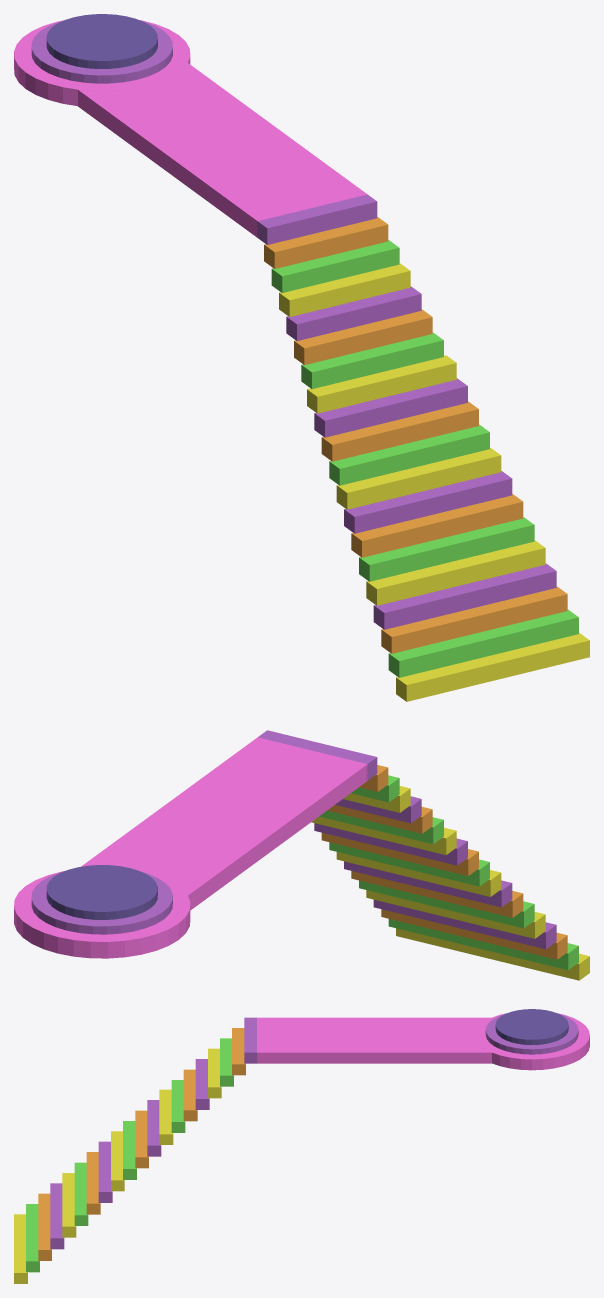
File: COUNT_MASTER_merdiven.fbx
3 views of the same model, one above another, from view 1: azimuth 30°, elevation 25°; view 2: azimuth 150°, elevation 25°; view 3: azimuth 270°, elevation 25° (orthographic). The views are drawn at different scales.
Visible parts, largest first — view 1: Cube.031, Circle.002, Cube.012, Cube.011, Cube.013, Cube.014, Cube.015, Cube.016, Cube.017, Cube.018, Cube.019, Cube.020 (+12 smaller); view 2: Cube.031, Circle, Circle.002, Circle.001, Cube.012, Cube.011, Cube.013, Cube.014, Cube.015, Cube.016, Cube.017, Cube.018 (+12 smaller); view 3: Cube.031, Circle, Circle.002, Circle.001, Cube.011, Cube.014, Cube.013, Cube.015, Cube.012, Cube.016, Cube.017, Cube.018 (+12 smaller).
Boxes of the visible parts, x1=… form: Cube.031: x1=78, y1=63, x2=367, y2=237; Circle.002: x1=46, y1=14, x2=157, y2=68; Cube.012: x1=396, y1=632, x2=589, y2=701; Cube.011: x1=388, y1=609, x2=578, y2=677; Cube.013: x1=381, y1=586, x2=567, y2=653; Cube.014: x1=373, y1=563, x2=556, y2=629; Cube.015: x1=366, y1=540, x2=545, y2=605; Cube.016: x1=359, y1=517, x2=534, y2=581; Cube.017: x1=351, y1=494, x2=523, y2=557; Cube.018: x1=344, y1=471, x2=512, y2=533; Cube.019: x1=336, y1=447, x2=501, y2=509; Cube.020: x1=329, y1=424, x2=489, y2=485; Cube.031: x1=81, y1=737, x2=367, y2=910; Circle: x1=14, y1=871, x2=190, y2=958; Circle.002: x1=46, y1=865, x2=157, y2=919; Circle.001: x1=31, y1=872, x2=172, y2=934; Cube.012: x1=396, y1=928, x2=589, y2=980; Cube.011: x1=388, y1=919, x2=578, y2=970; Cube.013: x1=381, y1=909, x2=567, y2=959; Cube.014: x1=373, y1=899, x2=556, y2=949; Cube.015: x1=366, y1=890, x2=545, y2=938; Cube.016: x1=359, y1=880, x2=534, y2=928; Cube.017: x1=351, y1=871, x2=523, y2=917; Cube.018: x1=344, y1=861, x2=512, y2=907; Cube.031: x1=257, y1=1017, x2=491, y2=1063; Circle: x1=474, y1=1013, x2=589, y2=1070; Circle.002: x1=495, y1=1009, x2=568, y2=1044; Circle.001: x1=485, y1=1014, x2=578, y2=1054; Cube.011: x1=26, y1=1204, x2=39, y2=1272; Cube.014: x1=50, y1=1183, x2=64, y2=1249; Cube.013: x1=38, y1=1193, x2=51, y2=1260; Cube.015: x1=62, y1=1173, x2=76, y2=1237; Cube.012: x1=14, y1=1214, x2=27, y2=1283; Cube.016: x1=74, y1=1162, x2=88, y2=1225; Cube.017: x1=86, y1=1152, x2=100, y2=1214; Cube.018: x1=98, y1=1141, x2=112, y2=1202.
Bounding box in the file's own units: 800 × 1468 × 3327.
